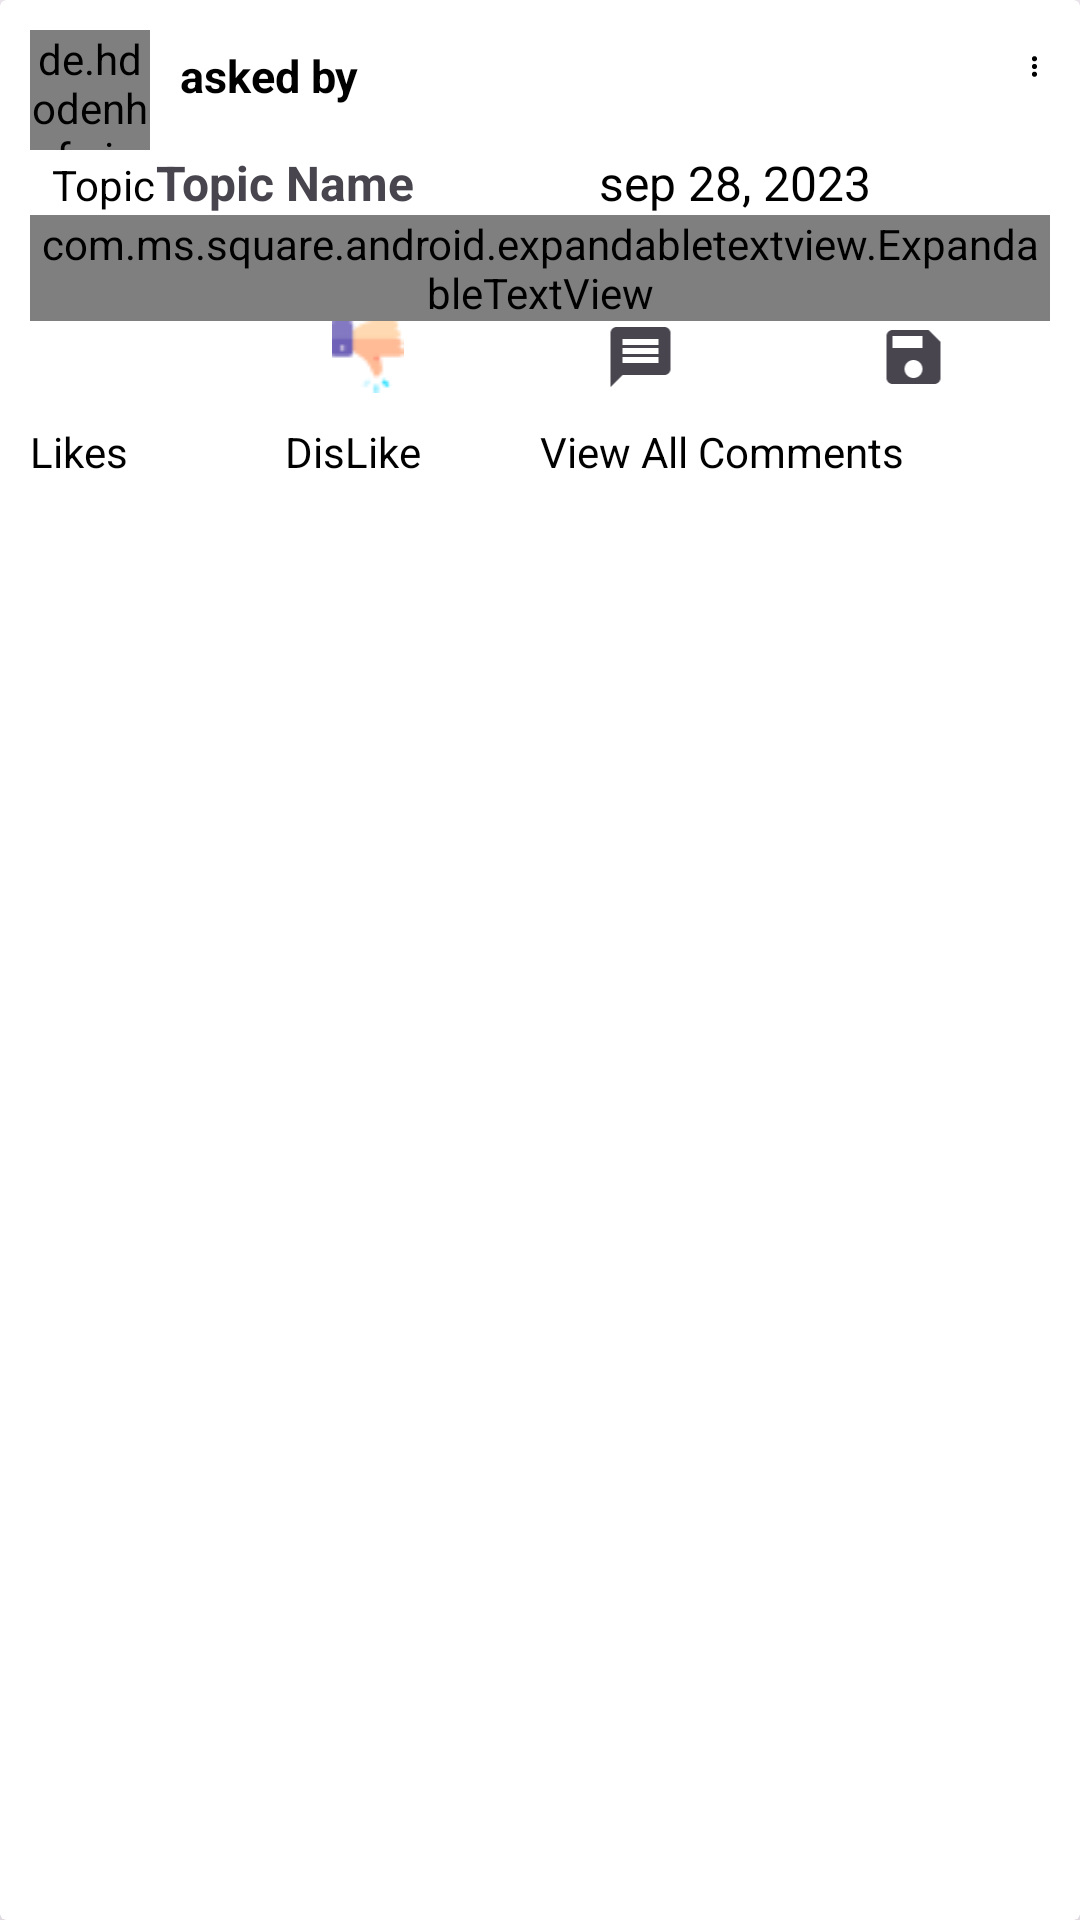

Icon bounding boxes for this 1080x1920 phone screenshot, format (x1, y1, x2, y2):
message: (610, 327, 671, 387)
save: (886, 330, 941, 384)
